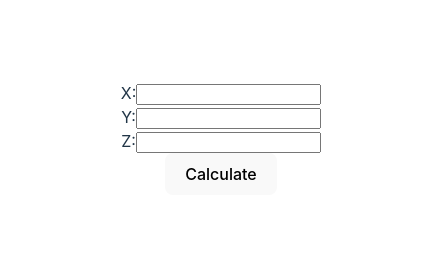
correct solution with integer inputs
Type "2" into the field labelled "X:" at (229, 95), box [136,84,321,105]
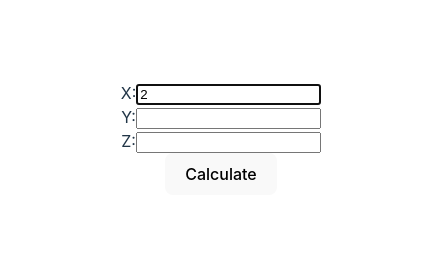
Type "10" into the field labelled "Y:" at (228, 119), box [136,108,321,129]
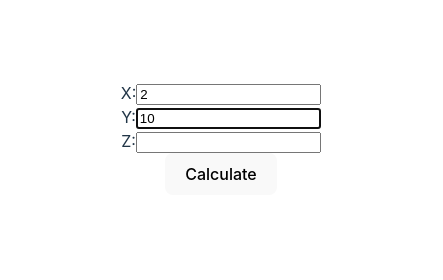
Type "4" into the field labelled "Z:" at (228, 143), box [136,132,321,153]
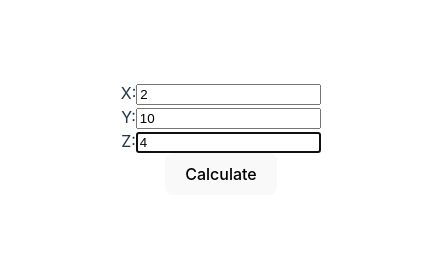
Click the button "Calculate" at (221, 174), box [165,153,277,195]
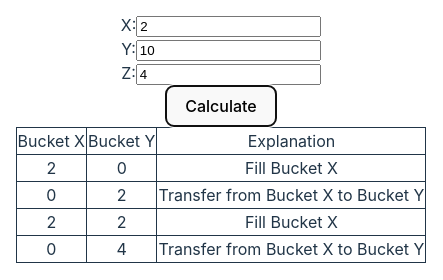
expect the number of rows is 5: met, box [16,127,426,154]; [16,154,426,181]; [16,181,426,208]; [16,208,426,235]; [16,235,426,262]
expect the 1st cell "2" is shown: met, box [16,154,87,181]
expect the 1st cell "0" is shown: met, box [86,154,157,181]
